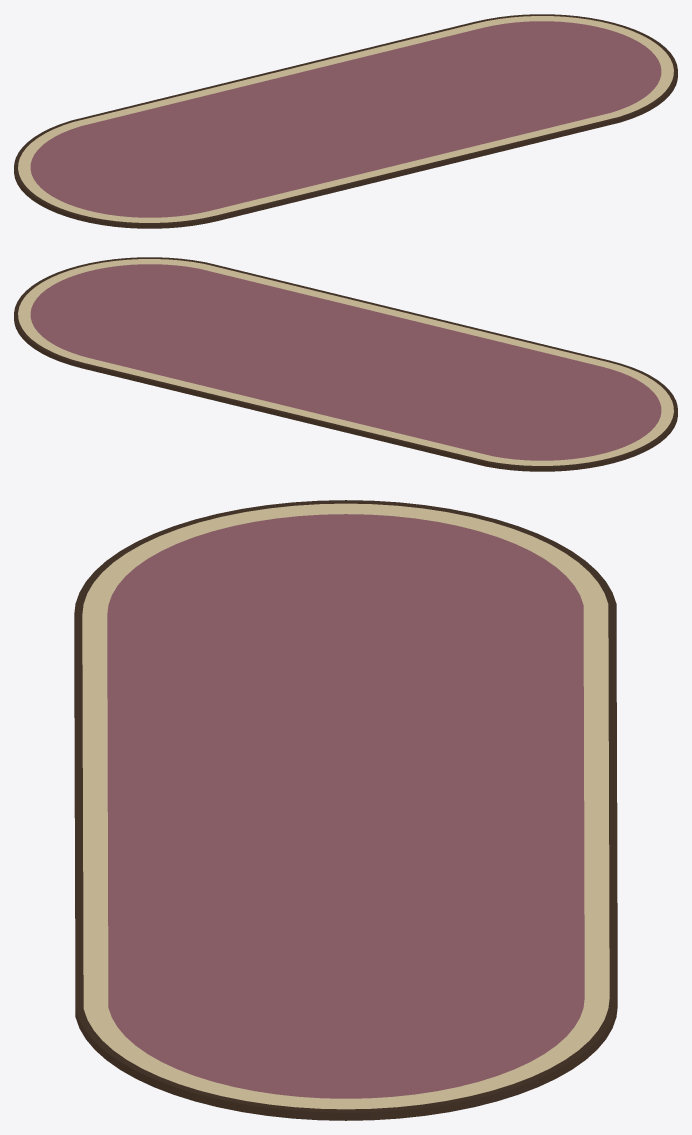
The model's file is library-runner-rug.glb.
3 renders of one model, top to bottom at view 1: azimuth 30°, elevation 25°; view 2: azimuth 150°, elevation 25°; view 3: azimuth 270°, elevation 25°, orthographic. The views are drawn at different scales.
Parts seen in each view (by area): view 1: library-runner-rug; view 2: library-runner-rug; view 3: library-runner-rug.
Boxes of the visible parts, x1=… form: library-runner-rug: x1=14, y1=14, x2=677, y2=228; library-runner-rug: x1=14, y1=257, x2=677, y2=471; library-runner-rug: x1=74, y1=500, x2=617, y2=1120.
Size of the model in its own units: 3.2 by 0.0196 by 1.2.
